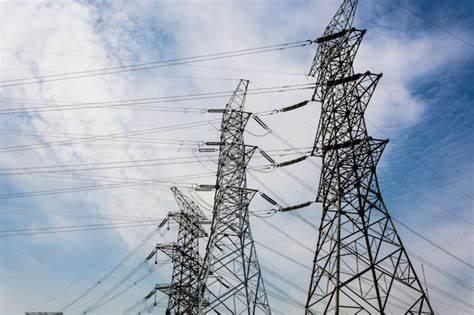power_tower: (299, 1, 436, 315), (193, 66, 280, 315), (155, 181, 206, 315)
